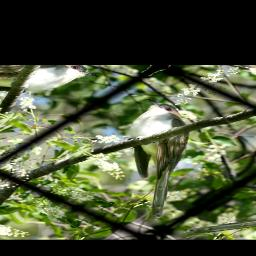Cuckoo: (31, 95, 256, 223)
